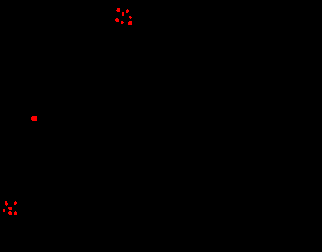Target: (31, 116, 37, 121), (116, 8, 120, 12), (115, 18, 119, 22), (128, 21, 132, 25), (8, 211, 12, 215), (5, 201, 8, 206), (126, 9, 129, 13), (14, 201, 17, 205), (8, 207, 12, 210), (14, 211, 17, 215), (129, 16, 132, 19), (121, 21, 124, 24), (122, 12, 124, 16), (3, 209, 5, 212)
